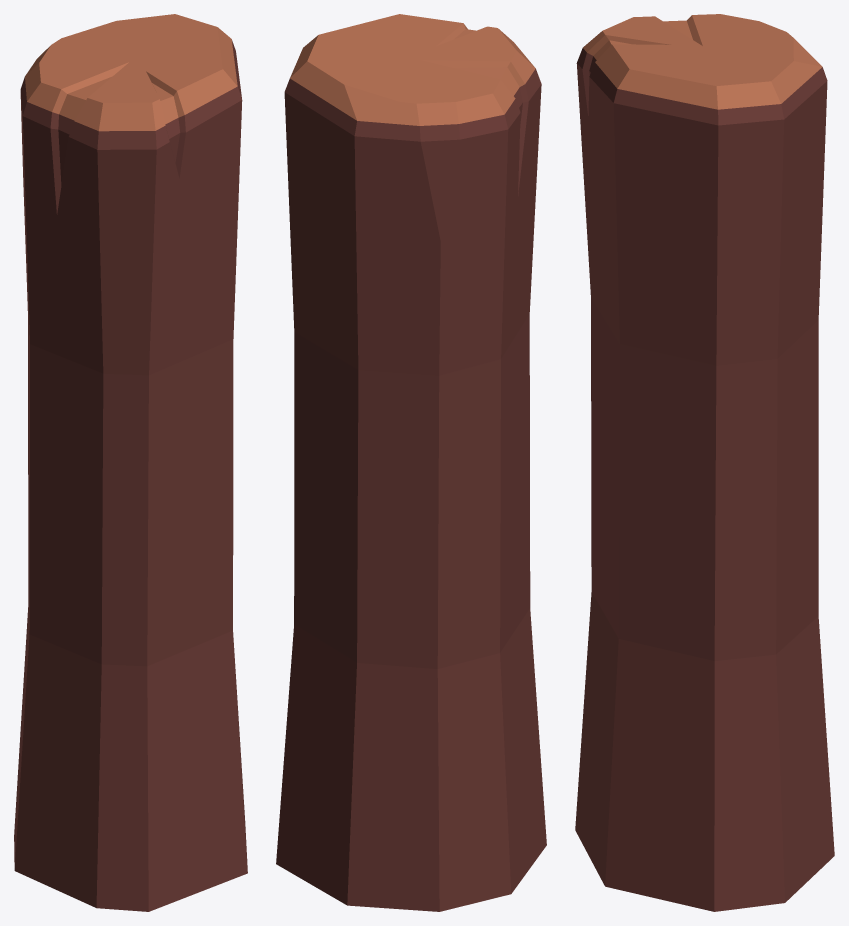
The model's file is Wooden Pole Blunt 07.fbx.
3 views of the same model, side by side, from view 1: azimuth 30°, elevation 25°; view 2: azimuth 150°, elevation 25°; view 3: azimuth 270°, elevation 25° (orthographic).
Parts seen in each view (by area): view 1: Wooden Pole Blunt 07; view 2: Wooden Pole Blunt 07; view 3: Wooden Pole Blunt 07.
Part boxes in pixels (x1=…): Wooden Pole Blunt 07: x1=14, y1=14, x2=247, y2=911; Wooden Pole Blunt 07: x1=276, y1=14, x2=546, y2=911; Wooden Pole Blunt 07: x1=575, y1=14, x2=834, y2=911.
Size of the model in its own units: 30.39 by 104 by 30.08.
